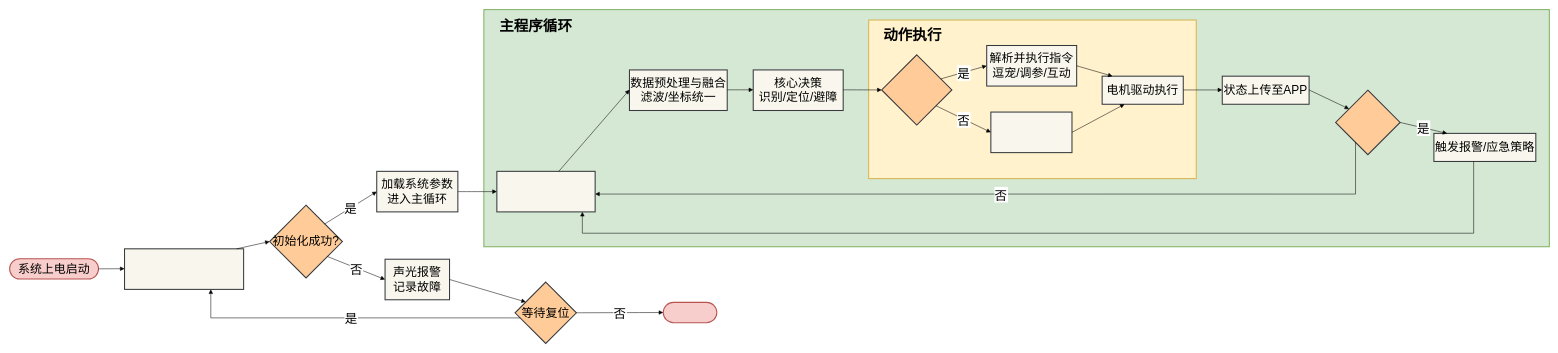
Some shapes in this 1558 by 353 pixel diagram are drawn without their labels. The shapes that lost their labels are listed below. From the top down, each one's centre as x and y in pixels, then its label:
the point at 916,89: 有APP指令?
the point at 1031,132: 自主跟随控制 PID调速/避障
the point at 1367,122: 检测异常?
the point at 545,191: 传感器数据采集 摄像头/超声/红外
the point at 184,269: 硬件初始化 主控/传感器/电机/无线
the point at 689,312: 关机
